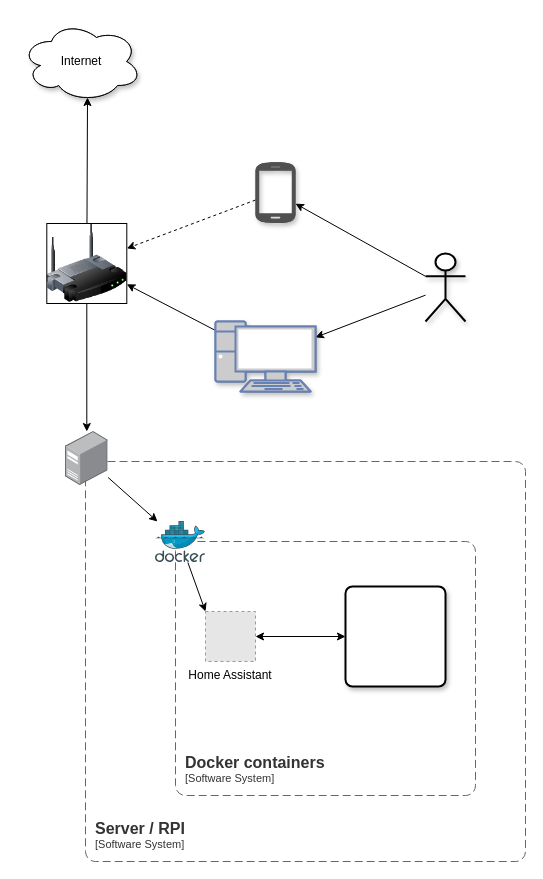
The diagram is 543 pixels wide and 879 high, and some of its shapes have lost their labels. Grey dashed boxes stand in for pictures. The centre of each missing label's shape, as x and y in pixels:
AA Application: the point at 396,637
Actor: the point at 446,288
